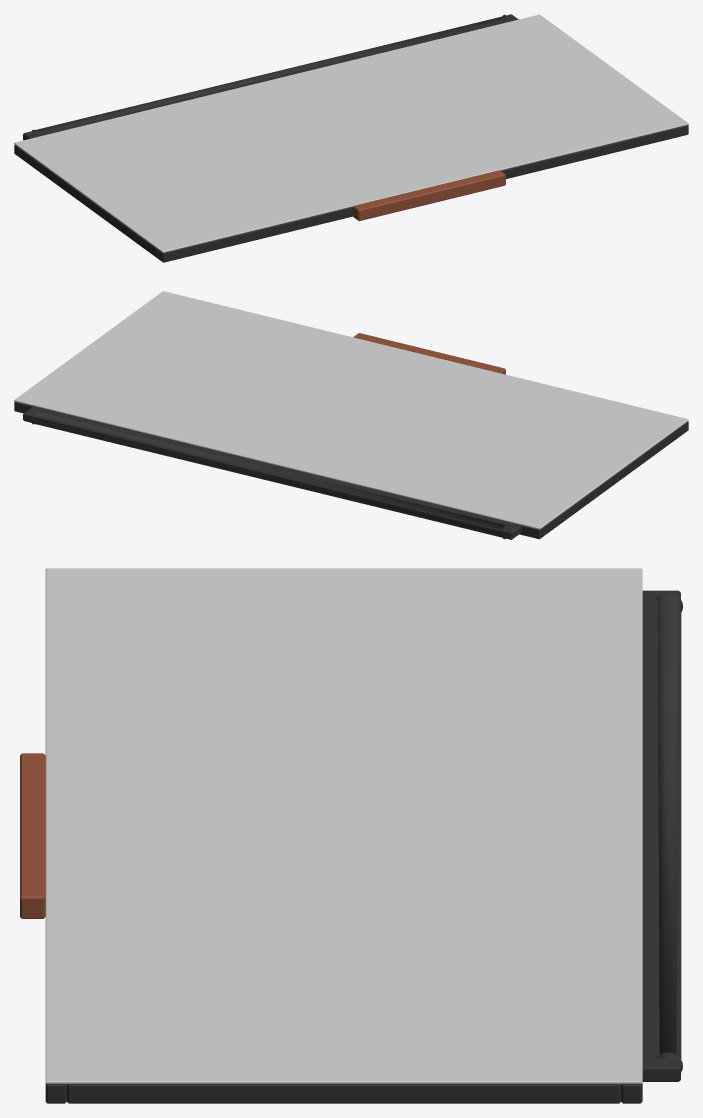
The model's file is dual_compartment_bin_lid.glb.
The picture shows the model from 3 angles, top to bottom: view 1: azimuth 30°, elevation 25°; view 2: azimuth 150°, elevation 25°; view 3: azimuth 270°, elevation 25°; orthographic projection. The views are drawn at different scales.
Visible parts, largest first — view 1: dual_compartment_bin_lid; view 2: dual_compartment_bin_lid; view 3: dual_compartment_bin_lid.
Boxes of the visible parts, box(x1,y1,x2,y2) form: dual_compartment_bin_lid: box(14, 14, 688, 262); dual_compartment_bin_lid: box(14, 291, 688, 539); dual_compartment_bin_lid: box(20, 568, 682, 1103).
Size of the model in its own units: 0.57 by 0.014 by 0.311.
